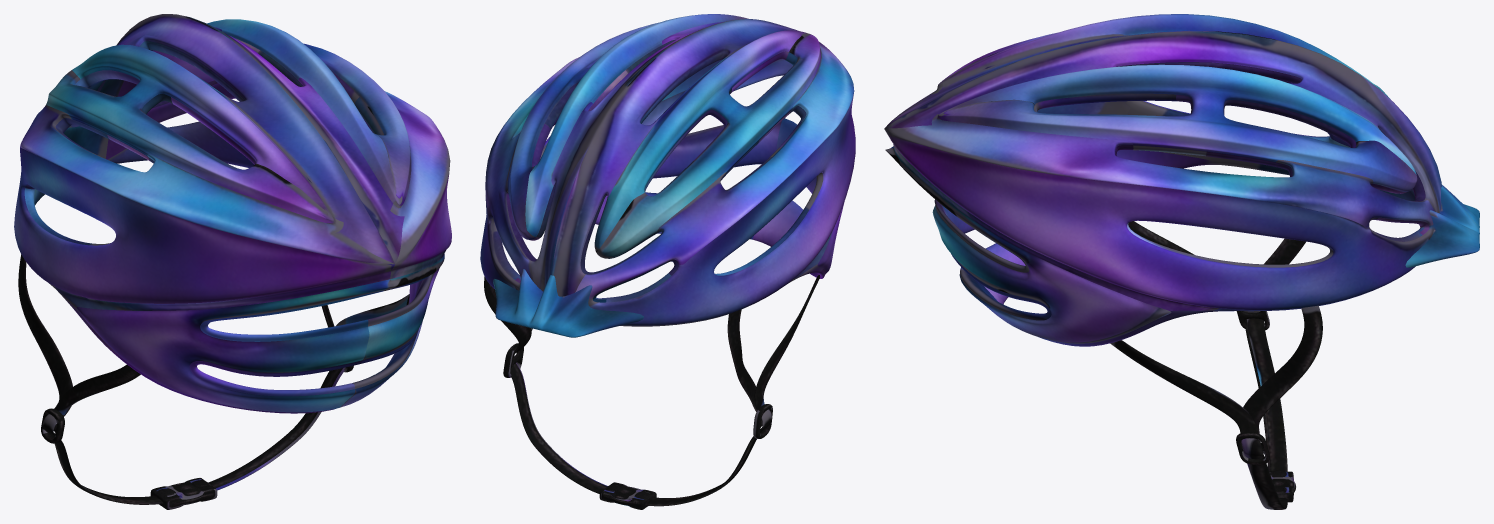
File: CyclingHelmetRigid.glb
3 views of the same model, side by side, from view 1: azimuth 30°, elevation 25°; view 2: azimuth 150°, elevation 25°; view 3: azimuth 270°, elevation 25° (orthographic). The views are drawn at different scales.
Visible parts, largest first — view 1: OriginalSuppliedHelmet; view 2: OriginalSuppliedHelmet; view 3: OriginalSuppliedHelmet.
Part boxes in pixels (x1,y1,x2,y2): OriginalSuppliedHelmet: [14, 14, 451, 509]; OriginalSuppliedHelmet: [480, 14, 855, 509]; OriginalSuppliedHelmet: [884, 14, 1479, 509].
Bounding box in the file's own units: 0.1689 × 0.2373 × 0.277.
Materials: 1 (1 with a texture image).
